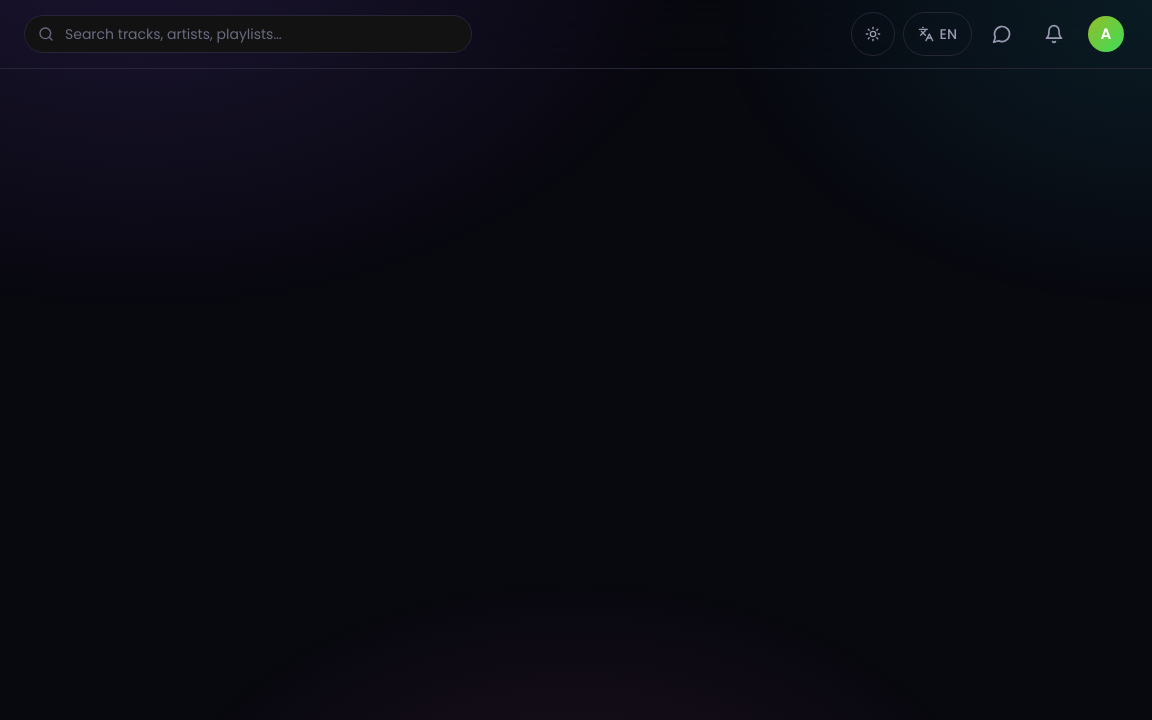
Test case: account menu › closes on Escape
Click the button named "Profile" at (1106, 34), box [1084, 12, 1128, 56]
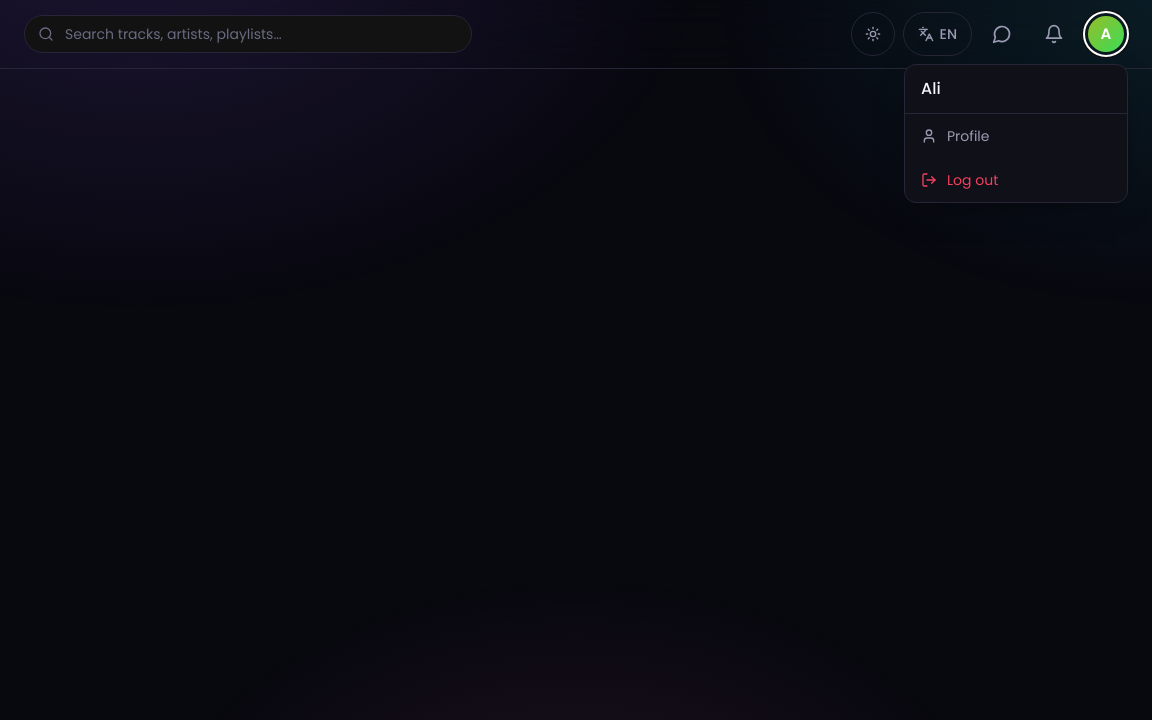
Press Escape
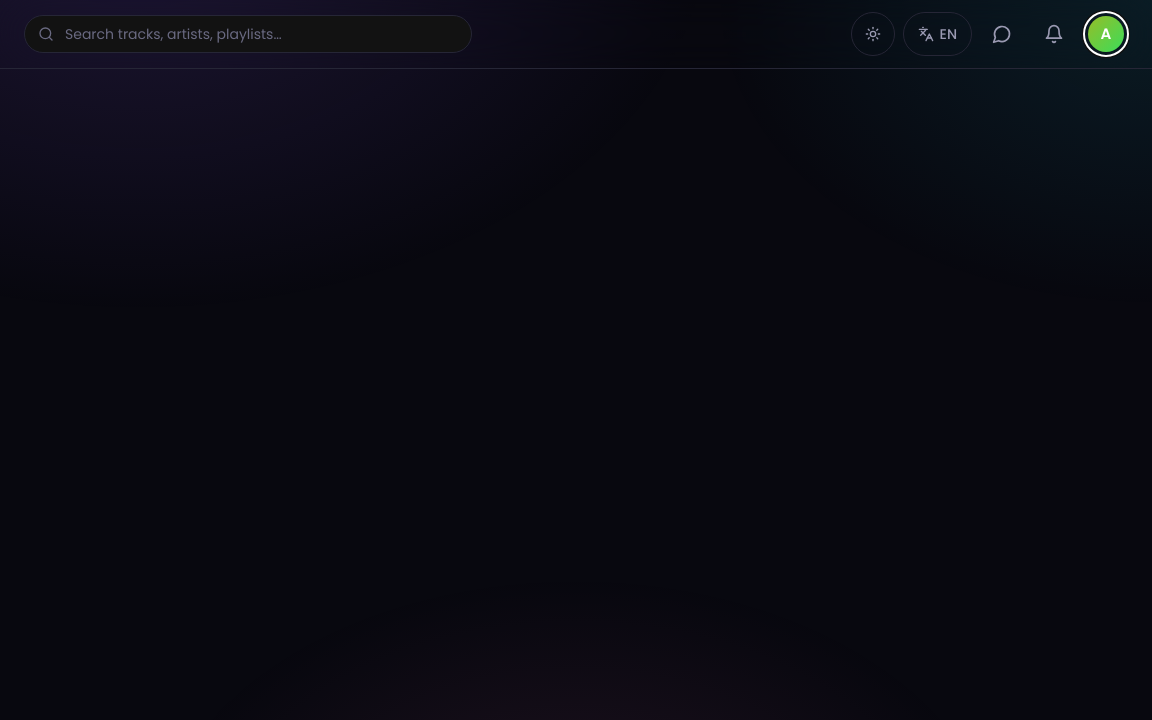
Result: the menu is gone
